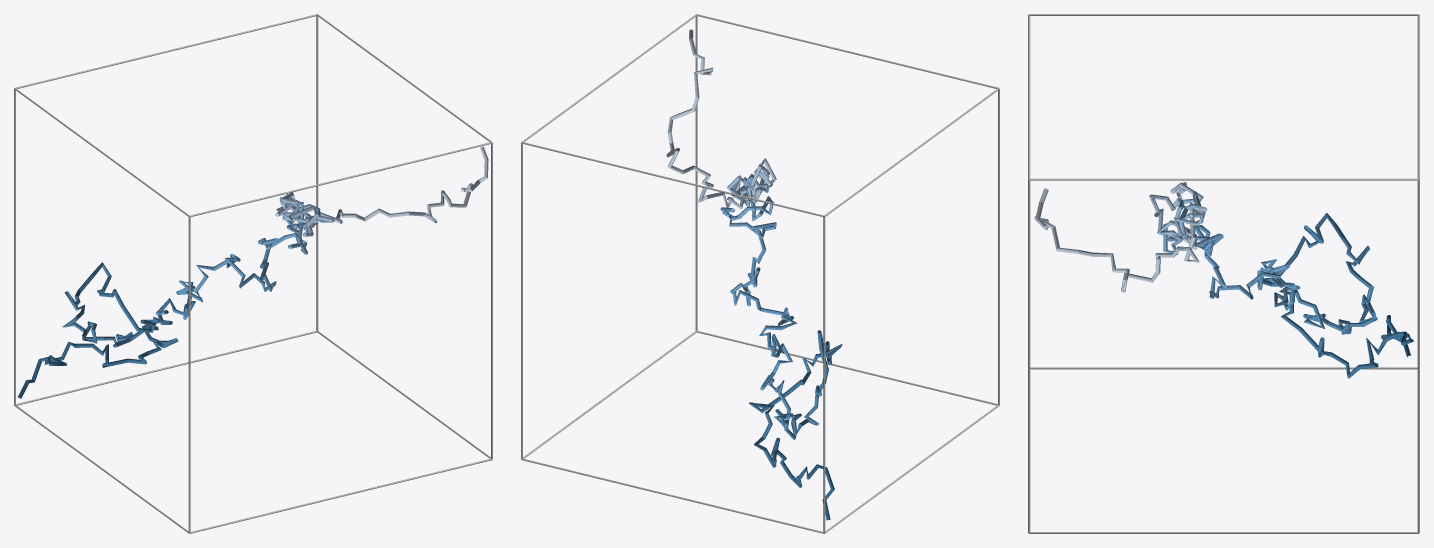
File: randomwalk.glb
3 views of the same model, side by side, from view 1: azimuth 30°, elevation 25°; view 2: azimuth 150°, elevation 25°; view 3: azimuth 270°, elevation 25° (orthographic). The views are drawn at different scales.
Parts seen in each view (by area): view 1: geometry_1, geometry_0; view 2: geometry_1, geometry_0; view 3: geometry_0, geometry_1.
Boxes of the visible parts, left/top/right/bottom form: geometry_1: left=14, top=14, right=492, bottom=533; geometry_0: left=17, top=146, right=488, bottom=398; geometry_1: left=521, top=14, right=999, bottom=533; geometry_0: left=666, top=29, right=842, bottom=520; geometry_0: left=1034, top=182, right=1413, bottom=378; geometry_1: left=1028, top=14, right=1419, bottom=533.
Bounding box in the file's own units: 0.3034 × 0.3014 × 0.3016.
